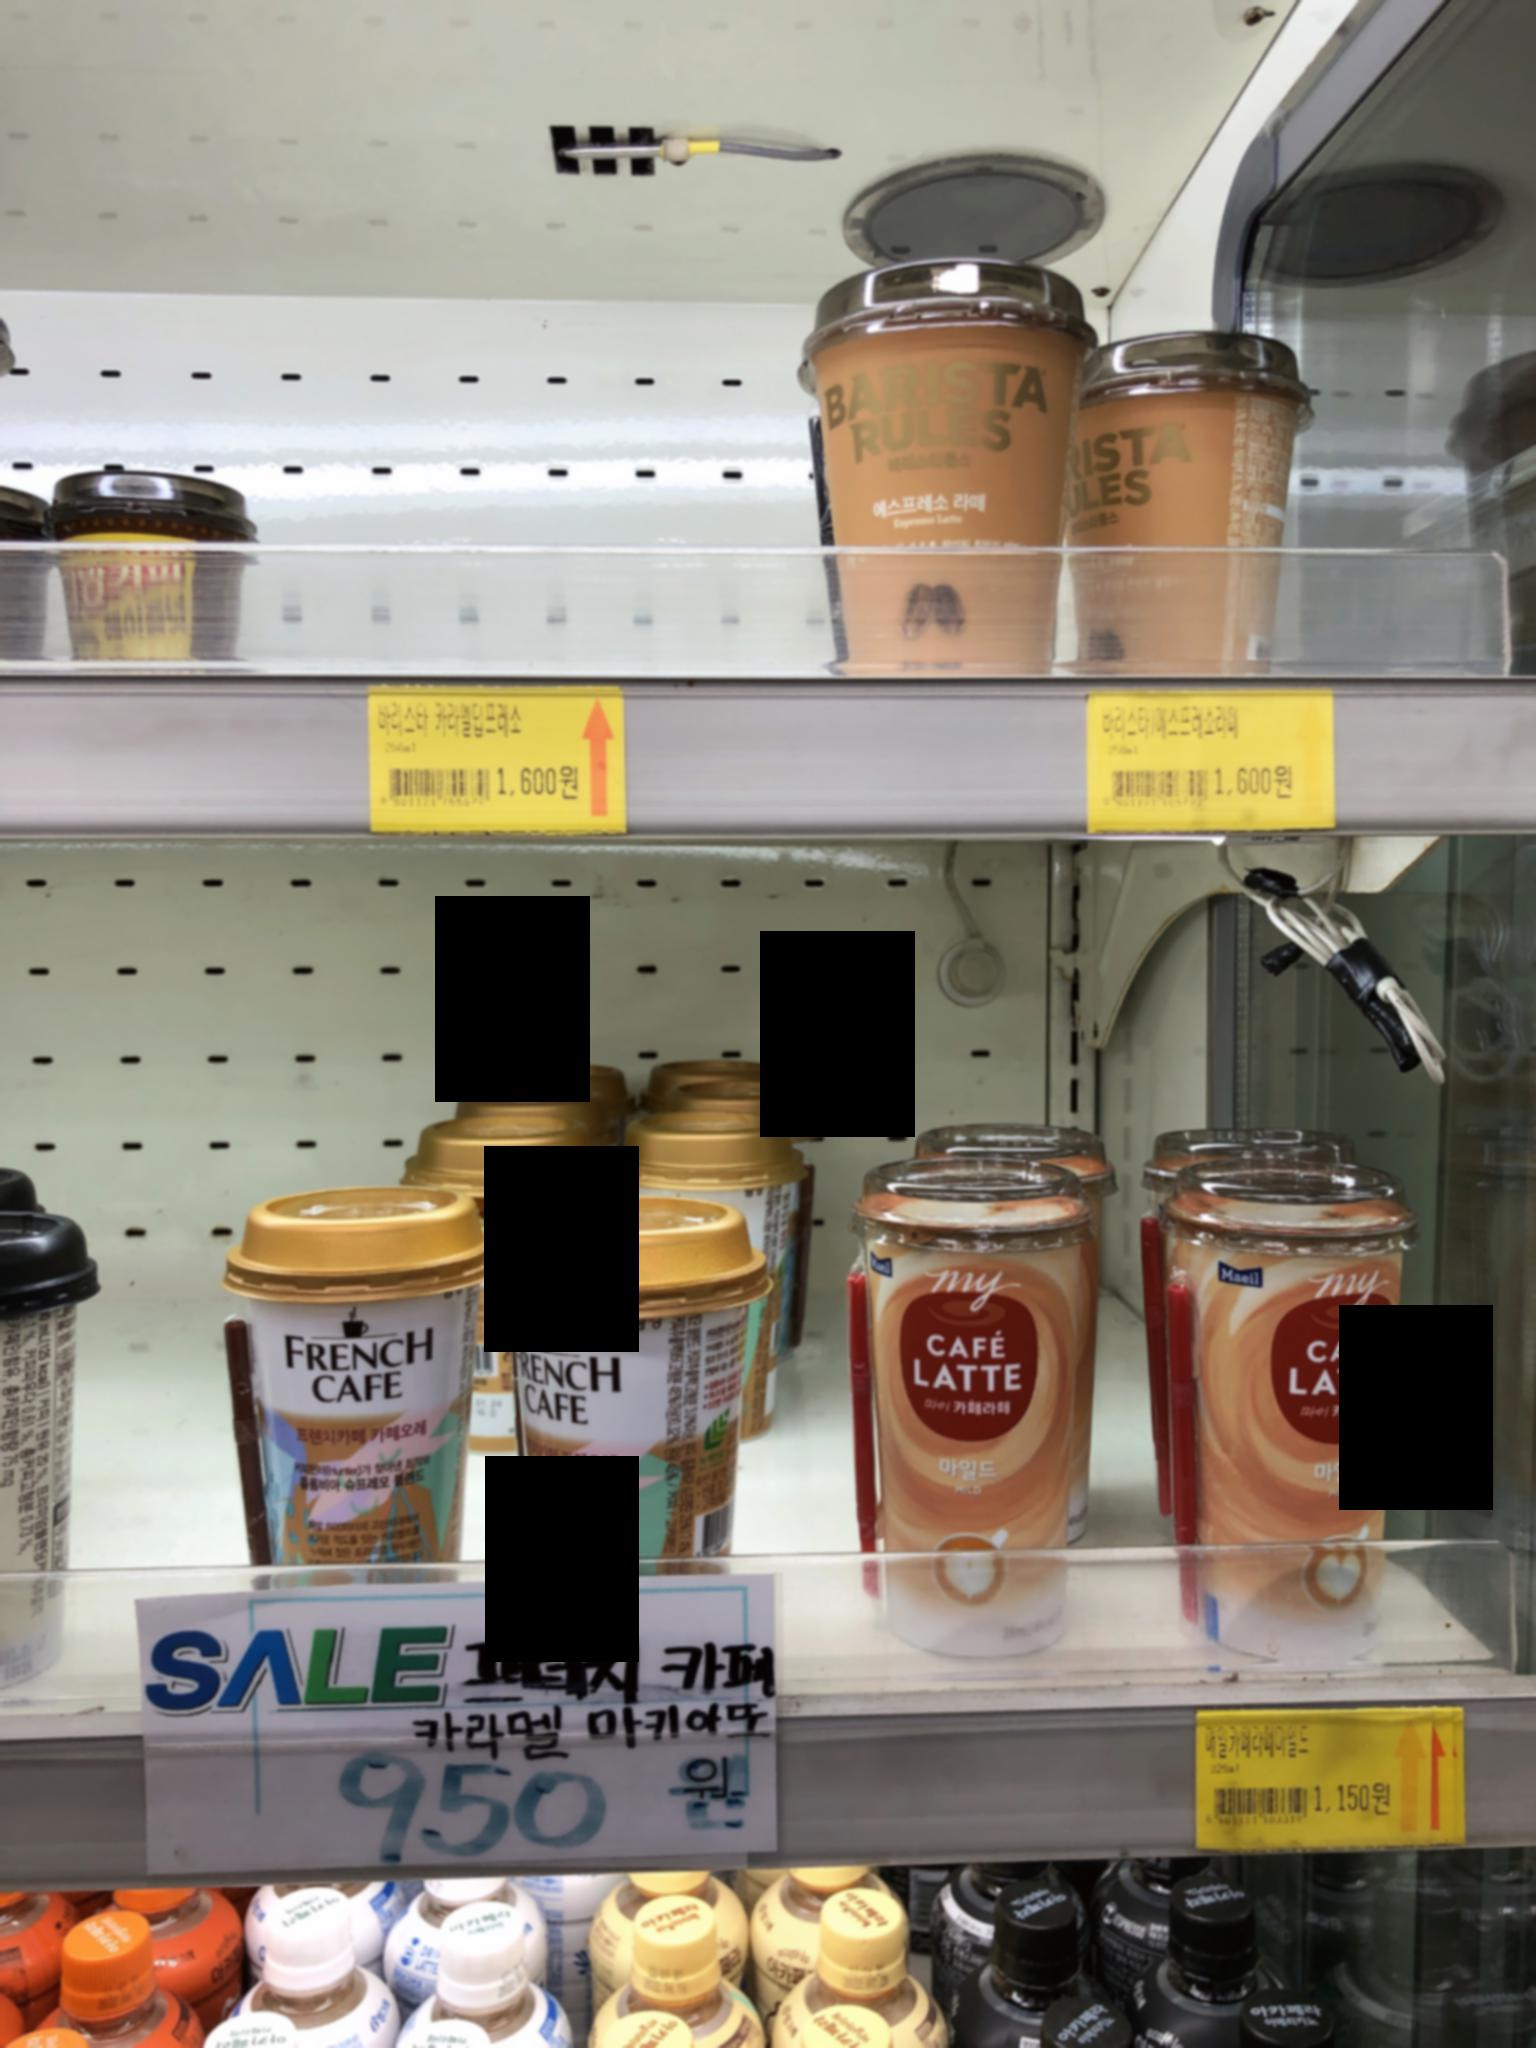baristarules_espressolatte: (792, 255, 1110, 703)
